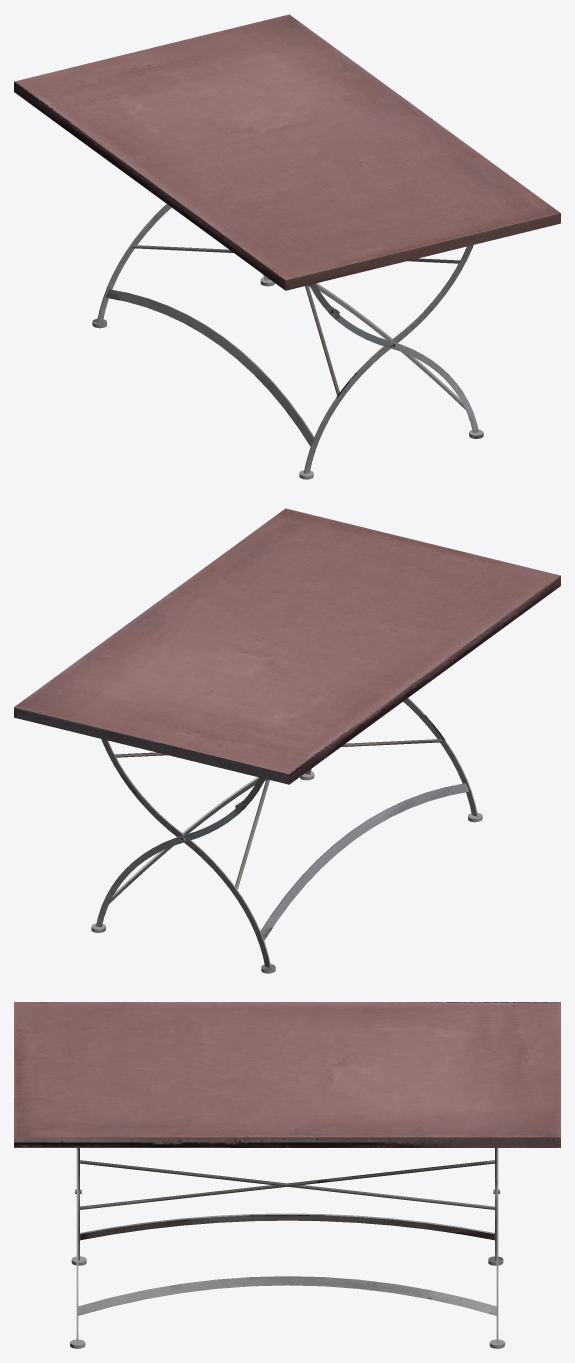
3 views of the same model, one above another, from view 1: azimuth 30°, elevation 25°; view 2: azimuth 150°, elevation 25°; view 3: azimuth 270°, elevation 25° (orthographic).
Parts seen in each view (by area): view 1: Node; view 2: Node; view 3: Node.
Part boxes in pixels (x1,y1,x2,y2): Node: (14,14,560,479); Node: (14,508,560,973); Node: (14,1002,560,1348).
Size of the model in its own units: 0.4098 by 0.331 by 0.7.
Materials: 1 (1 with a texture image).
